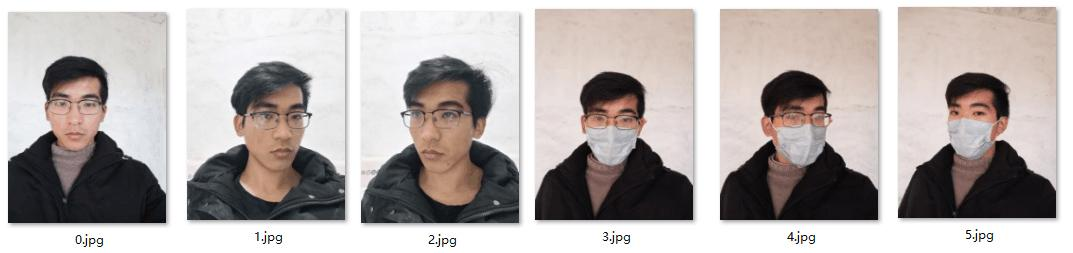nomask: (40, 61, 112, 145)
